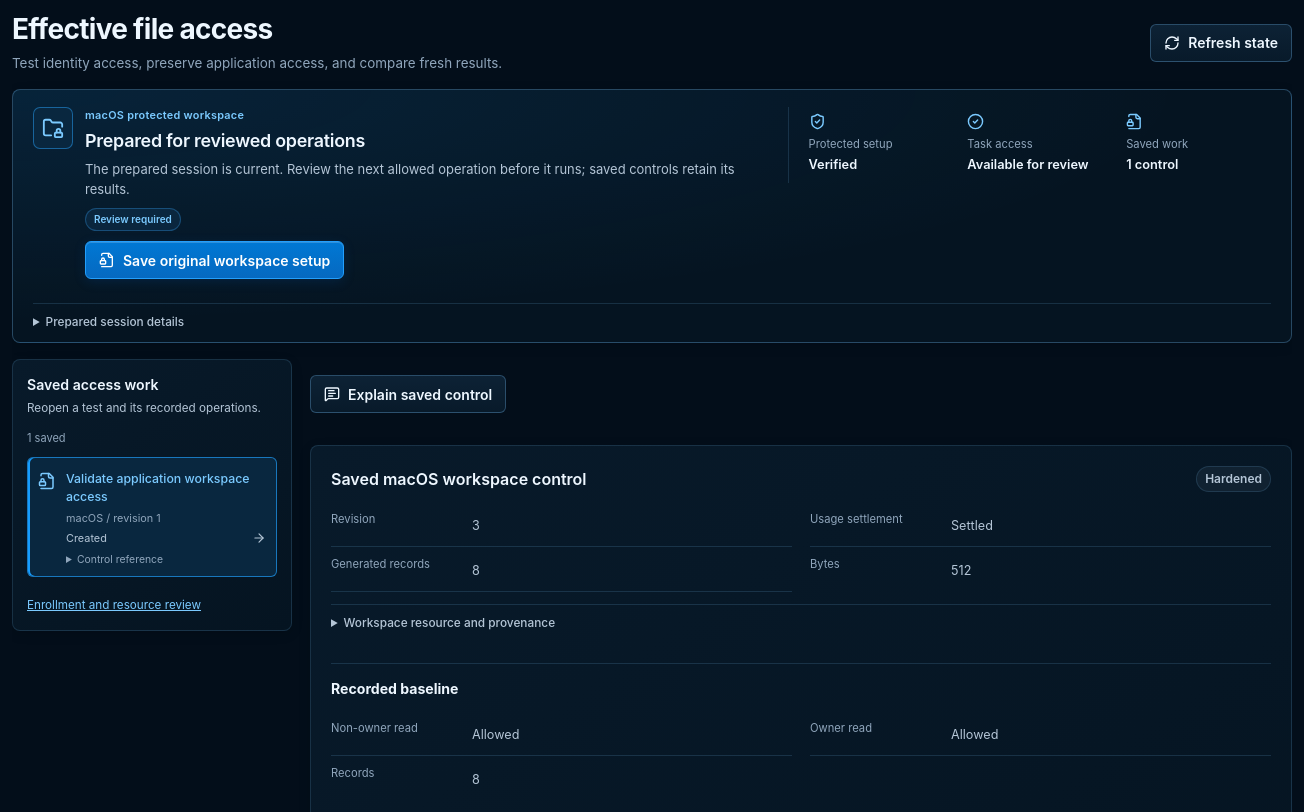
Scenario: removes Mac composition entry during a status refresh and keeps its control history
The image size is (1304, 812).
Click the button "Refresh state": (1221, 43) [1150, 24, 1292, 62]
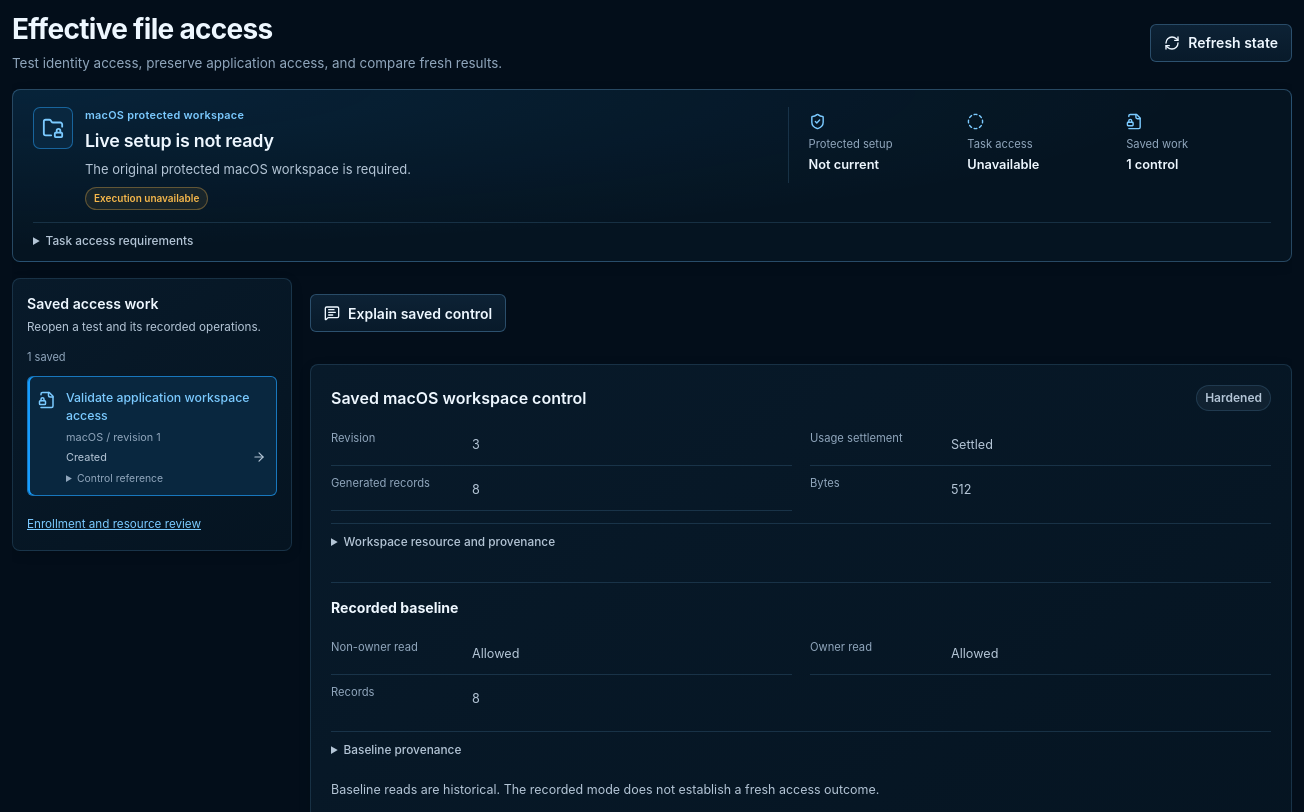
Check: the heading "Recorded baseline" is shown, box [331, 582, 1271, 616]
Check: the heading "Live setup is not ready" is shown, box [85, 130, 274, 150]
